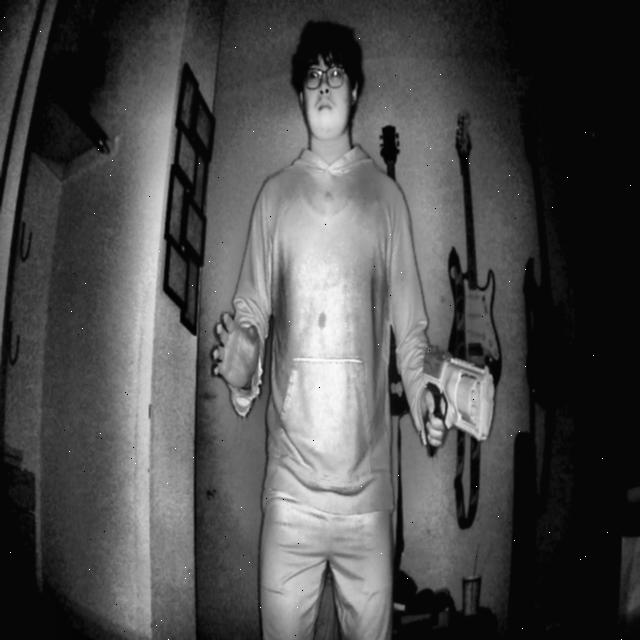Nerf_Blaster: (407, 332, 507, 487)
